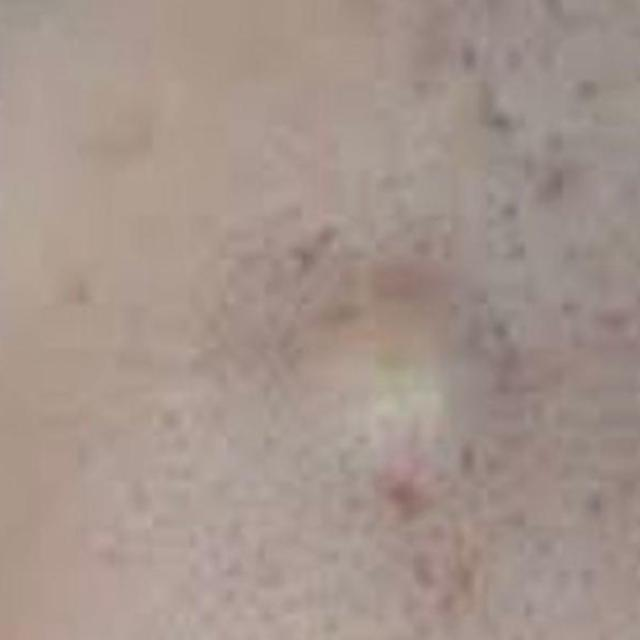nodule: (263, 252, 540, 509)
